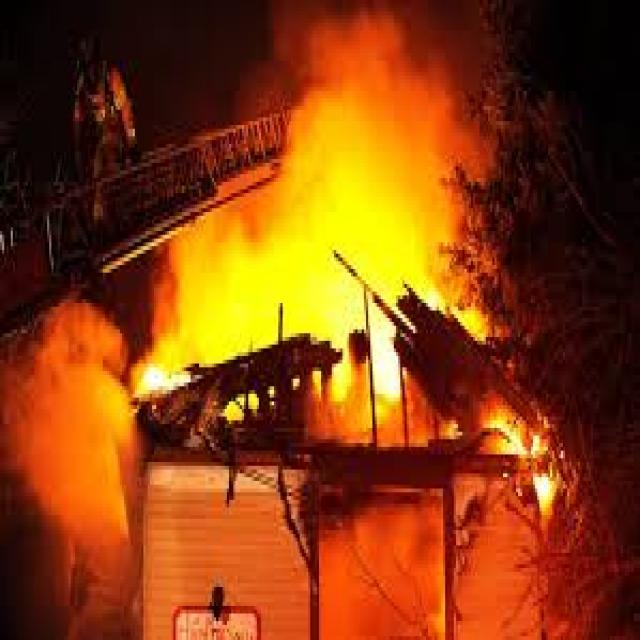fire: (147, 46, 475, 426)
